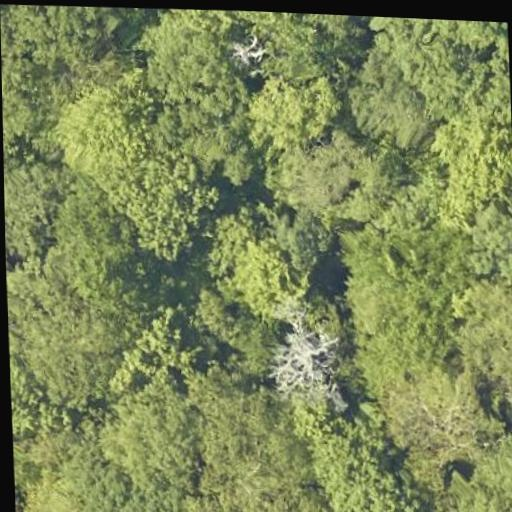tree-top: (18, 223, 143, 394), (336, 212, 439, 375), (192, 382, 315, 512), (207, 200, 326, 323), (100, 389, 202, 504), (118, 139, 212, 259), (142, 6, 249, 111), (268, 126, 376, 223), (418, 113, 509, 223), (389, 372, 494, 464), (344, 46, 433, 151), (12, 420, 112, 512), (237, 72, 342, 155), (1, 44, 84, 145), (109, 307, 201, 398), (318, 419, 408, 512), (5, 3, 127, 71), (53, 86, 139, 182), (256, 321, 346, 410), (450, 273, 512, 383), (3, 150, 61, 262), (426, 462, 512, 512), (397, 448, 453, 501), (187, 285, 237, 342), (428, 19, 507, 54), (298, 13, 367, 36)
